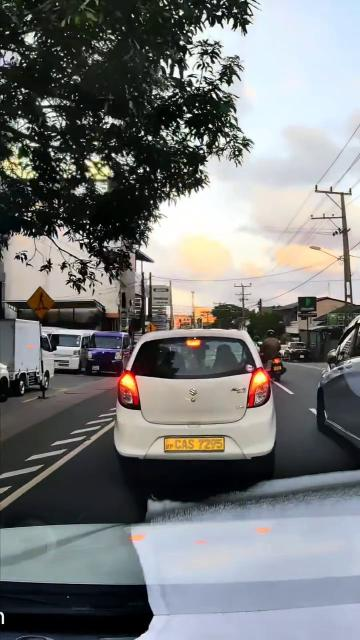number plate: (160, 431, 231, 457)
